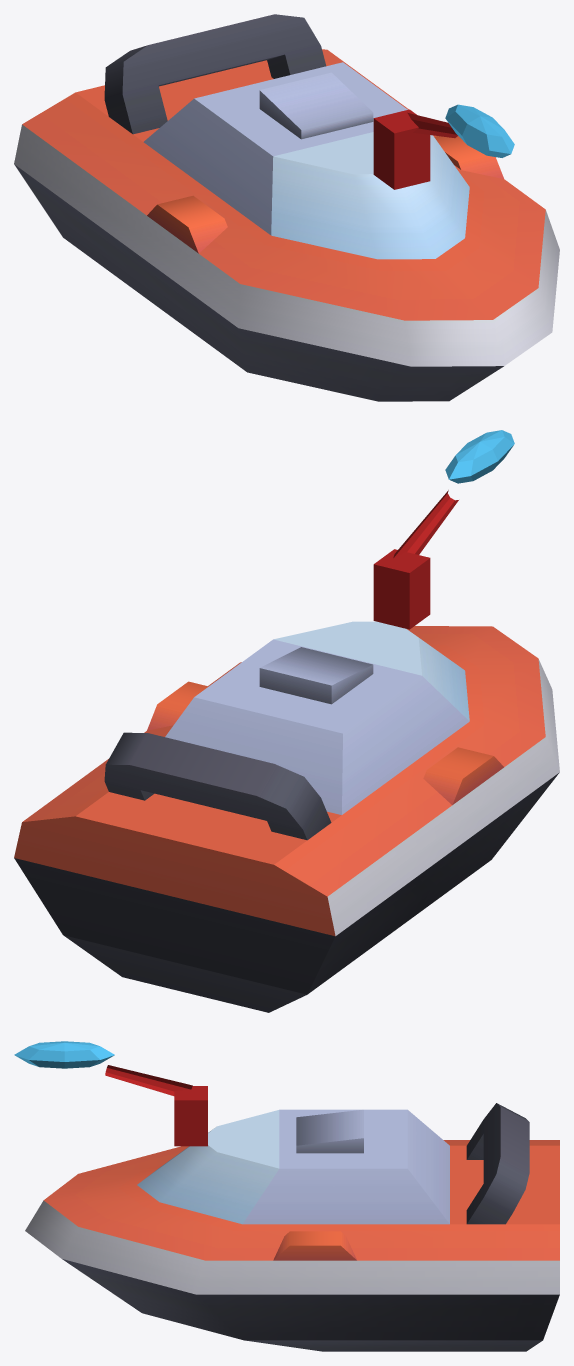
The model's file is brandbat.glb.
3 renders of one model, top to bottom at view 1: azimuth 30°, elevation 25°; view 2: azimuth 150°, elevation 25°; view 3: azimuth 270°, elevation 25°, orthographic. The views are drawn at different scales.
Parts seen in each view (by area): view 1: boat-speed-c, till-brandbat; view 2: boat-speed-c, till-brandbat; view 3: boat-speed-c, till-brandbat.
Boxes of the visible parts, box(x1,y1,x2,y2) form: boat-speed-c: box(14, 14, 559, 401); till-brandbat: box(373, 104, 514, 189); boat-speed-c: box(14, 621, 559, 1012); till-brandbat: box(373, 430, 514, 629); boat-speed-c: box(25, 1103, 559, 1351); till-brandbat: box(14, 1041, 207, 1146).
Size of the model in its own units: 1.78 by 1.83 by 3.23.
3 materials, 1 textured.
